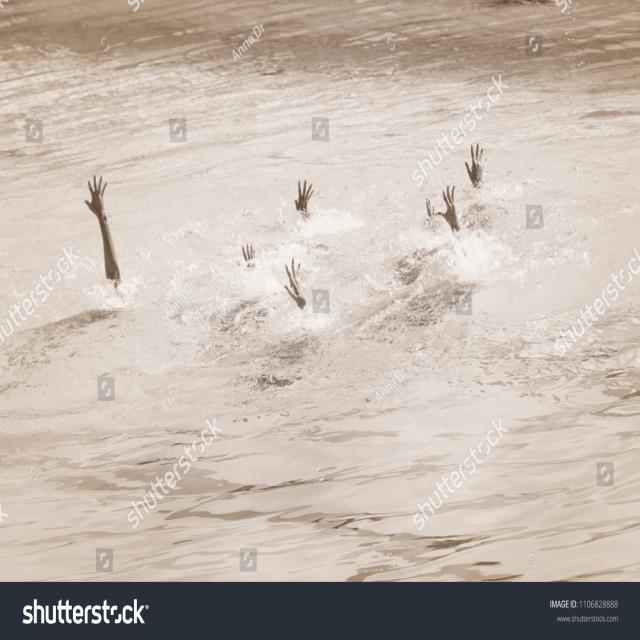drowning: (72, 166, 156, 365)
